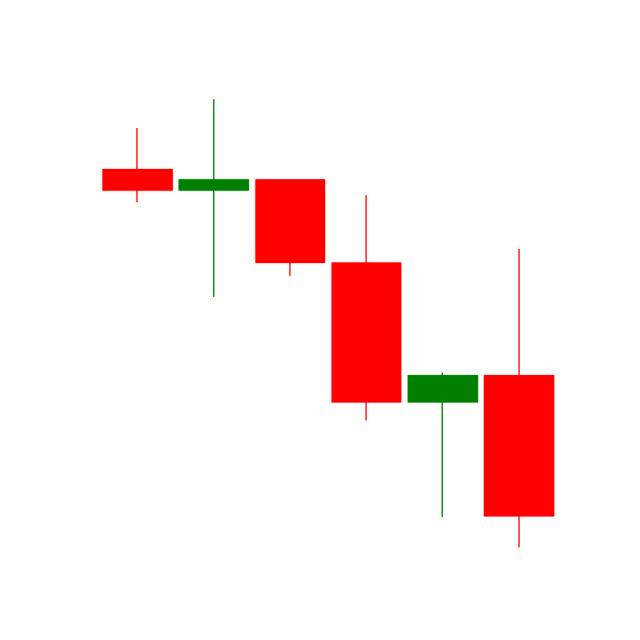Hammer: (403, 371, 481, 519)
